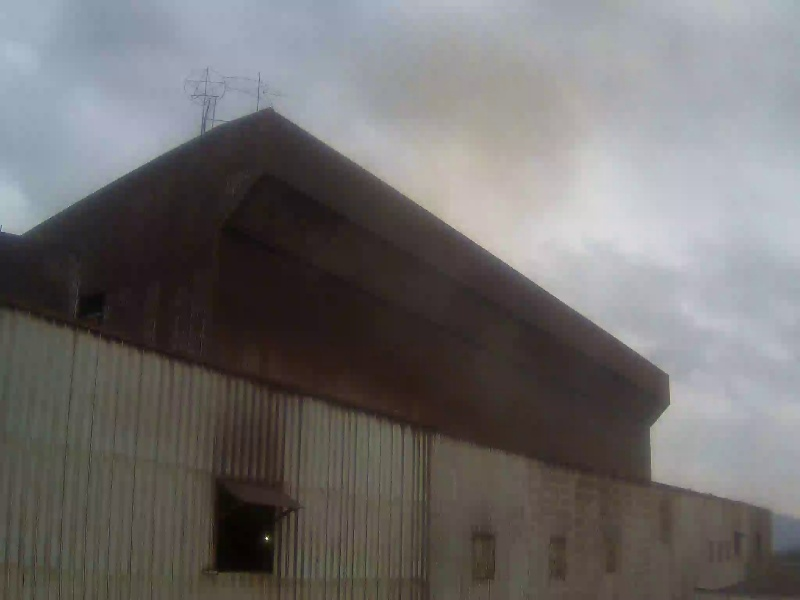bom: (16, 6, 260, 173), (640, 227, 794, 448)
ruim: (312, 29, 571, 251)
